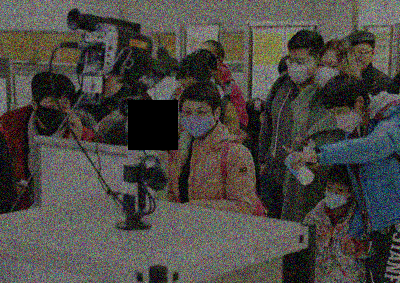with_mask: (180, 103, 215, 136), (38, 98, 71, 130), (287, 53, 315, 85), (330, 104, 359, 133), (315, 57, 341, 89), (324, 180, 348, 210)
